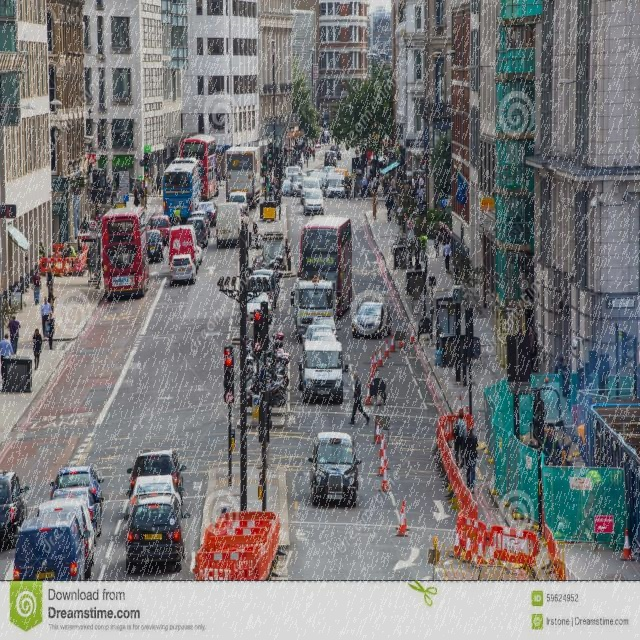pessoa: (346, 369, 371, 426), (459, 426, 479, 494), (451, 411, 467, 468), (540, 429, 562, 467), (0, 332, 14, 383), (6, 315, 20, 355), (31, 327, 43, 370), (41, 296, 53, 338), (43, 310, 55, 350), (30, 269, 42, 306), (560, 358, 570, 398), (78, 216, 90, 247), (451, 254, 462, 287), (417, 230, 428, 262), (442, 240, 452, 274), (528, 326, 535, 372), (412, 234, 422, 266), (384, 193, 394, 223), (250, 220, 259, 250), (46, 266, 55, 294), (432, 228, 440, 259), (67, 244, 77, 268), (154, 171, 163, 197), (106, 177, 114, 206), (371, 192, 379, 220), (397, 204, 405, 232), (48, 287, 56, 314), (172, 206, 182, 226), (24, 255, 30, 288), (416, 184, 424, 208), (360, 174, 368, 198), (114, 168, 121, 194), (132, 188, 141, 208), (368, 176, 378, 194), (274, 178, 280, 206), (38, 238, 46, 258), (320, 126, 328, 146), (94, 198, 102, 216), (304, 142, 312, 160), (140, 186, 146, 208), (268, 181, 274, 201), (390, 175, 397, 192), (217, 169, 223, 187), (129, 174, 135, 191), (418, 174, 424, 190), (516, 328, 524, 336), (411, 174, 416, 186), (312, 147, 316, 162), (564, 358, 570, 364), (272, 174, 276, 180)
